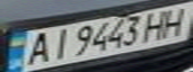3: (121, 14, 148, 47)
4: (90, 19, 115, 53), (109, 16, 130, 50)
9: (69, 23, 97, 57)
A: (21, 29, 54, 65)
H: (157, 6, 193, 39), (139, 9, 172, 42)
I: (45, 26, 72, 61)
